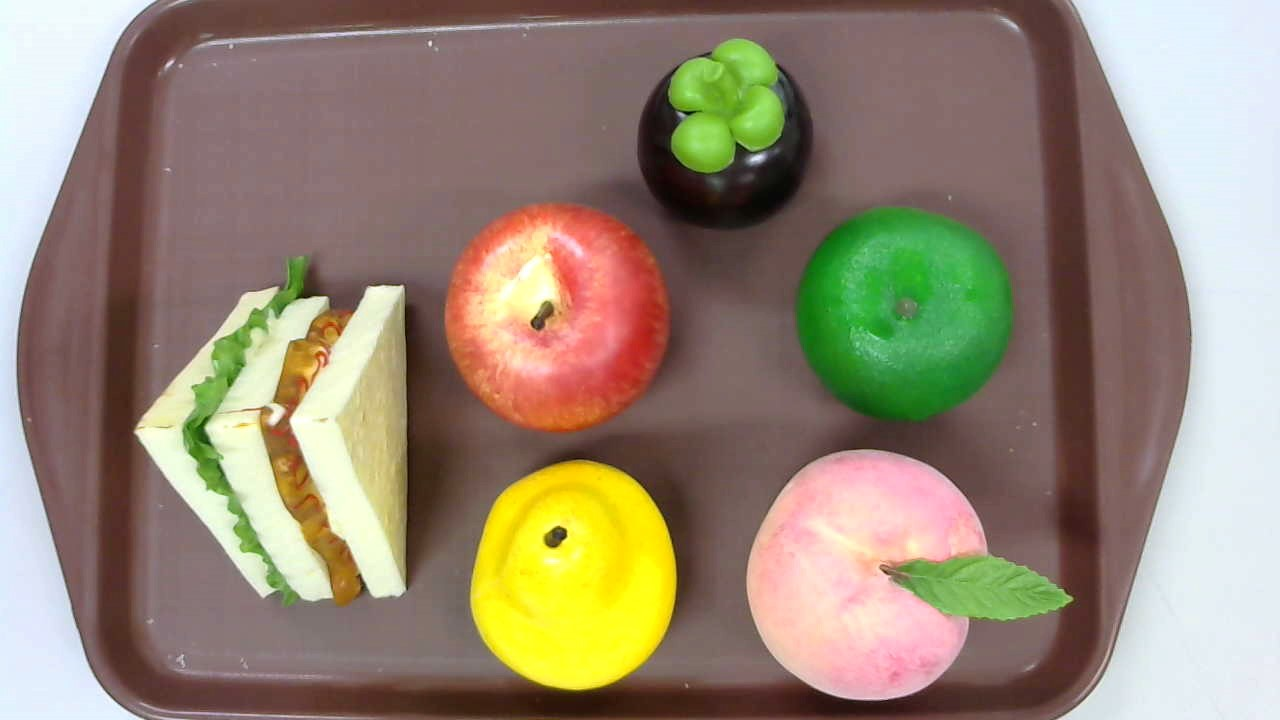green orange: (793, 204, 1014, 422)
mangosteen: (636, 38, 813, 231)
peach: (744, 449, 1075, 700)
red apple: (443, 203, 672, 434)
sandwich: (134, 253, 408, 604)
yellow pear: (469, 459, 677, 691)
